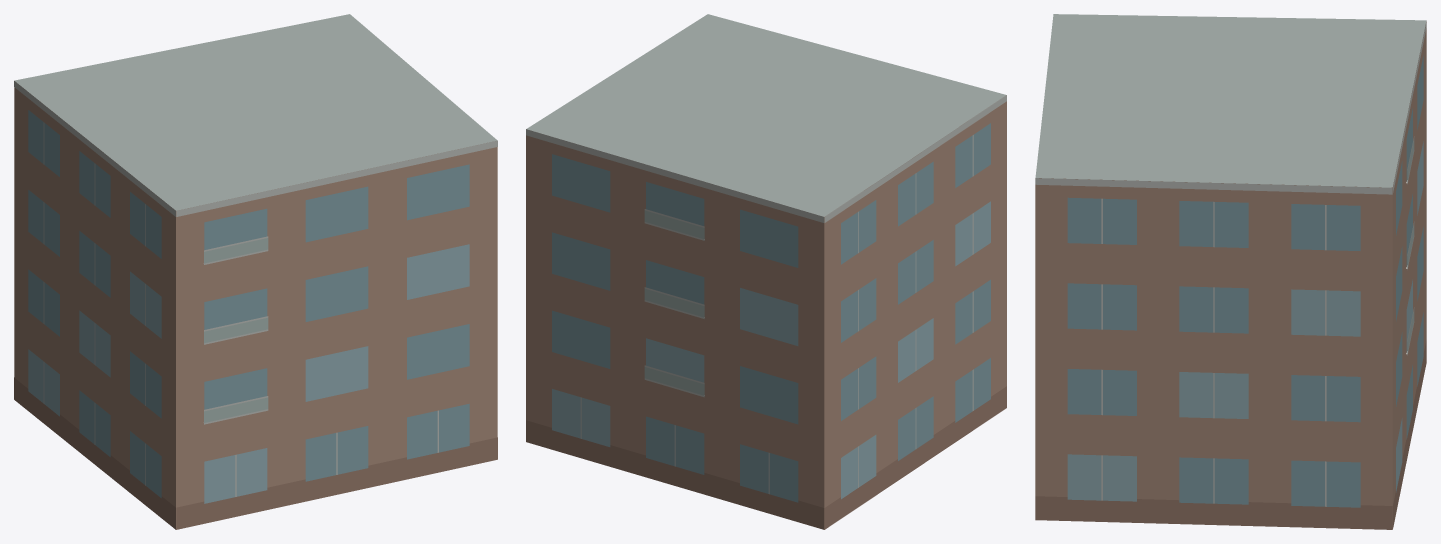
Rendered from survey-upis-33041774.glb.
The picture shows the model from 3 angles, left to right: view 1: azimuth 30°, elevation 25°; view 2: azimuth 150°, elevation 25°; view 3: azimuth 270°, elevation 25°; orthographic projection. The views are drawn at different scales.
Parts seen in each view (by area): view 1: survey-upis-33041774.tmp; view 2: survey-upis-33041774.tmp; view 3: survey-upis-33041774.tmp.
Boxes of the visible parts, x1,y1,x2,y2 form: survey-upis-33041774.tmp: (14, 14, 497, 529); survey-upis-33041774.tmp: (526, 14, 1006, 529); survey-upis-33041774.tmp: (1035, 14, 1426, 529).
Bounding box in the file's own units: 13.3 × 12.2 × 12.65.
